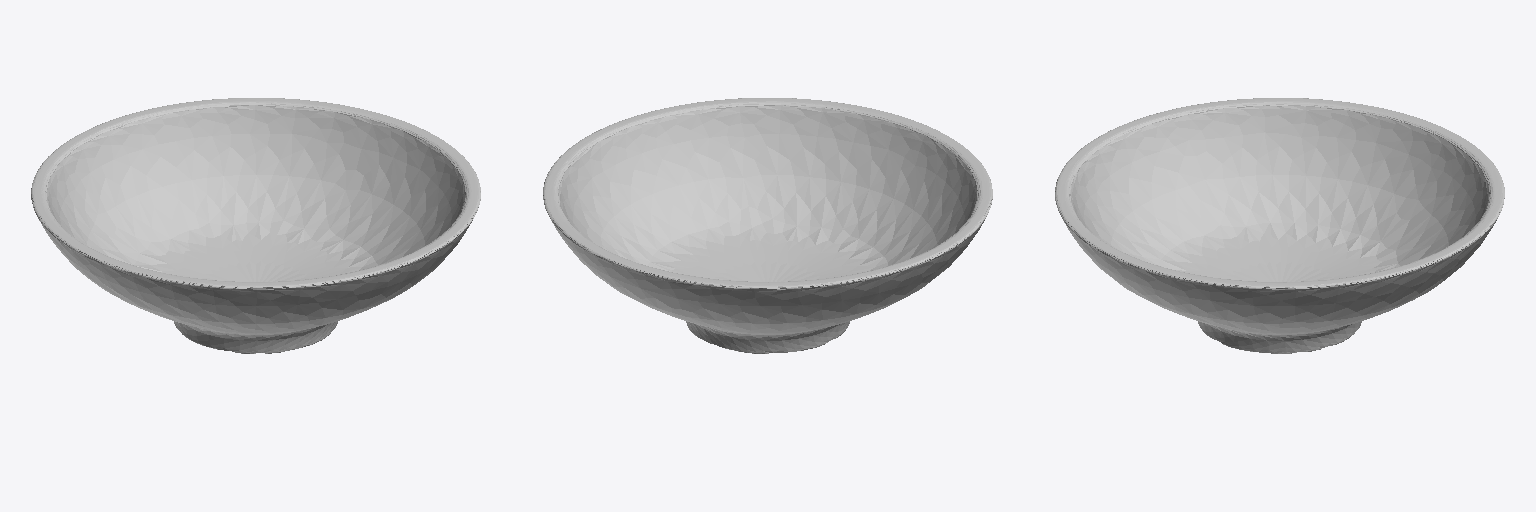
Rendered from pot2_black.obj.
The picture shows the model from 3 angles: view 1: azimuth 30°, elevation 25°; view 2: azimuth 150°, elevation 25°; view 3: azimuth 270°, elevation 25°; orthographic projection.
Visible parts, largest first — view 1: Pot.002; view 2: Pot.002; view 3: Pot.002.
Boxes of the visible parts, <box> form: Pot.002: <box>31,98,480,353</box>; Pot.002: <box>543,98,992,353</box>; Pot.002: <box>1055,98,1504,353</box>.
Size of the model in its own units: 0.2058 by 0.0647 by 0.2059.